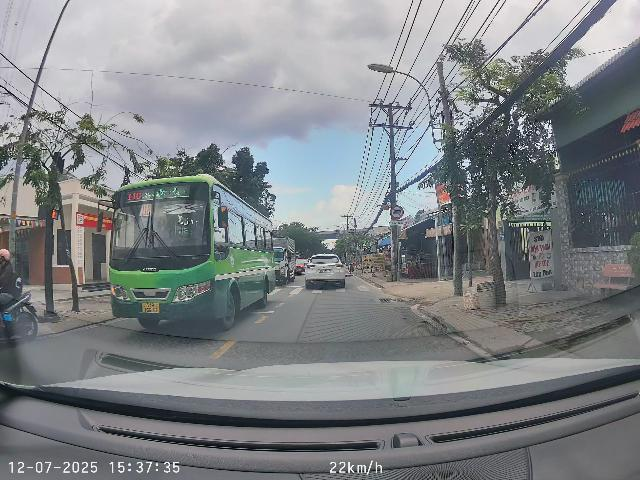106-cam-oto-tai: (390, 205, 404, 219)
